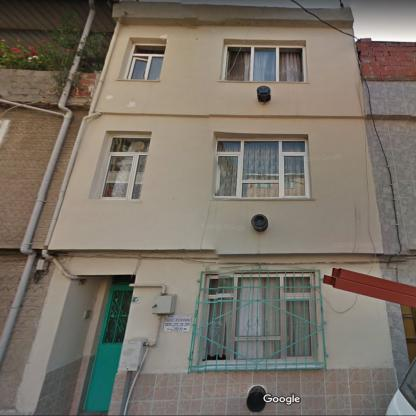door: (83, 278, 134, 410)
window: (198, 271, 316, 364), (212, 136, 310, 197), (95, 132, 151, 200), (221, 44, 306, 82), (124, 40, 164, 80)
